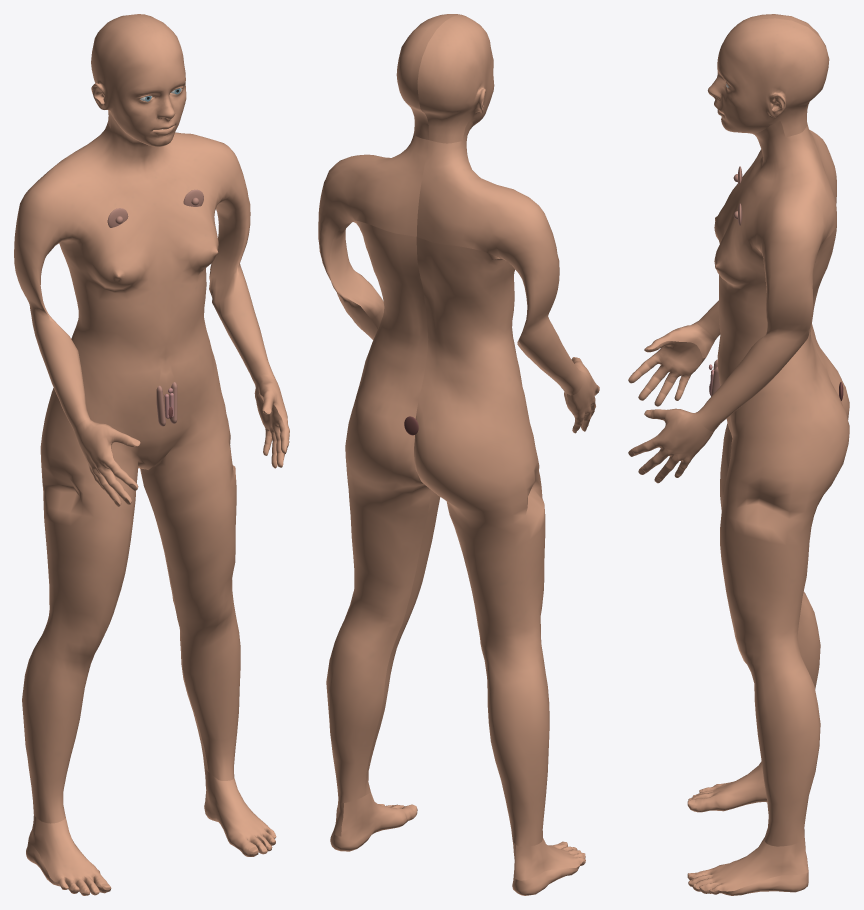
File: body-jugendlicher-weiblich-real-v3.glb
The picture shows the model from 3 angles, left to right: view 1: azimuth 30°, elevation 25°; view 2: azimuth 150°, elevation 25°; view 3: azimuth 270°, elevation 25°; orthographic projection. The views are drawn at different scales.
Visible parts, largest first — view 1: real-human-body; view 2: real-human-body; view 3: real-human-body.
Boxes of the visible parts, x1,y1,x2,y2 form: real-human-body: [14, 14, 289, 895]; real-human-body: [318, 14, 599, 895]; real-human-body: [628, 14, 849, 895].
Bounding box in the file's own units: 0.4748 × 1.66 × 0.402.
Materials: 8 (1 with a texture image).
